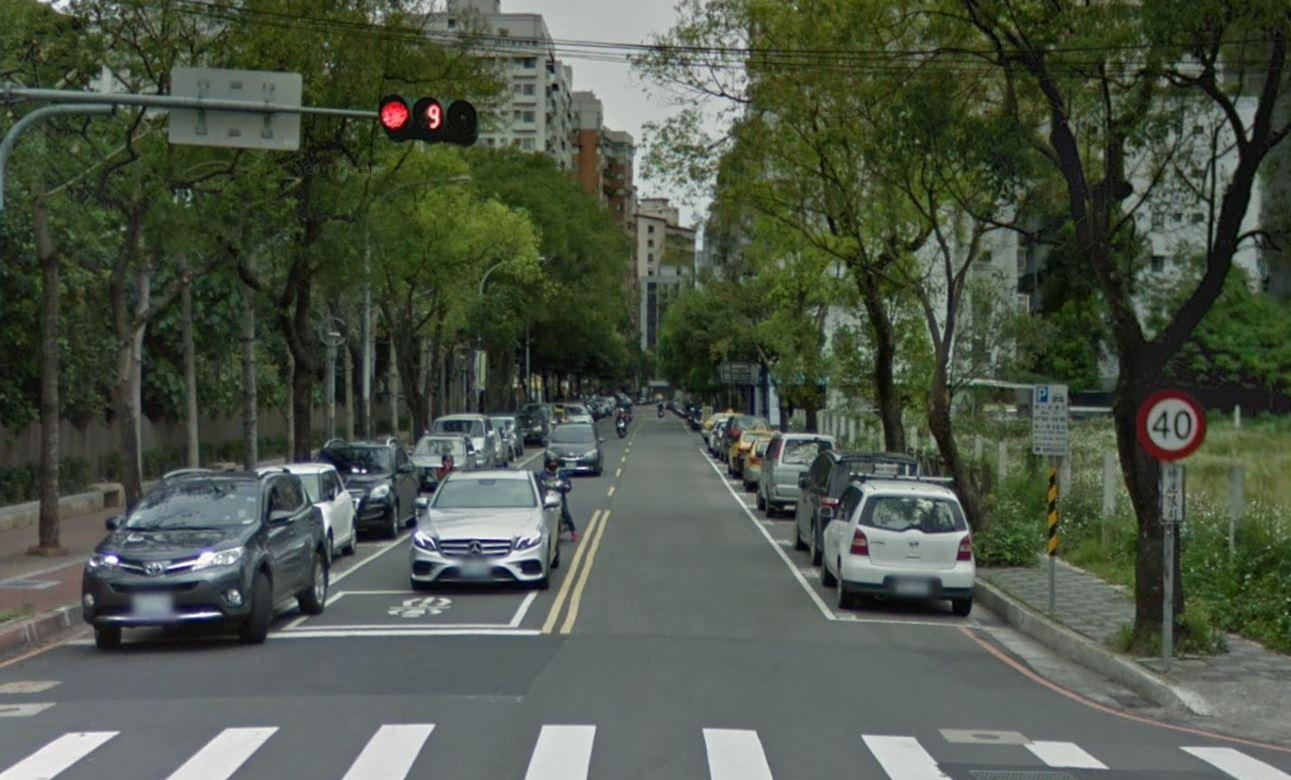red_traffic_light: (376, 95, 477, 136)
